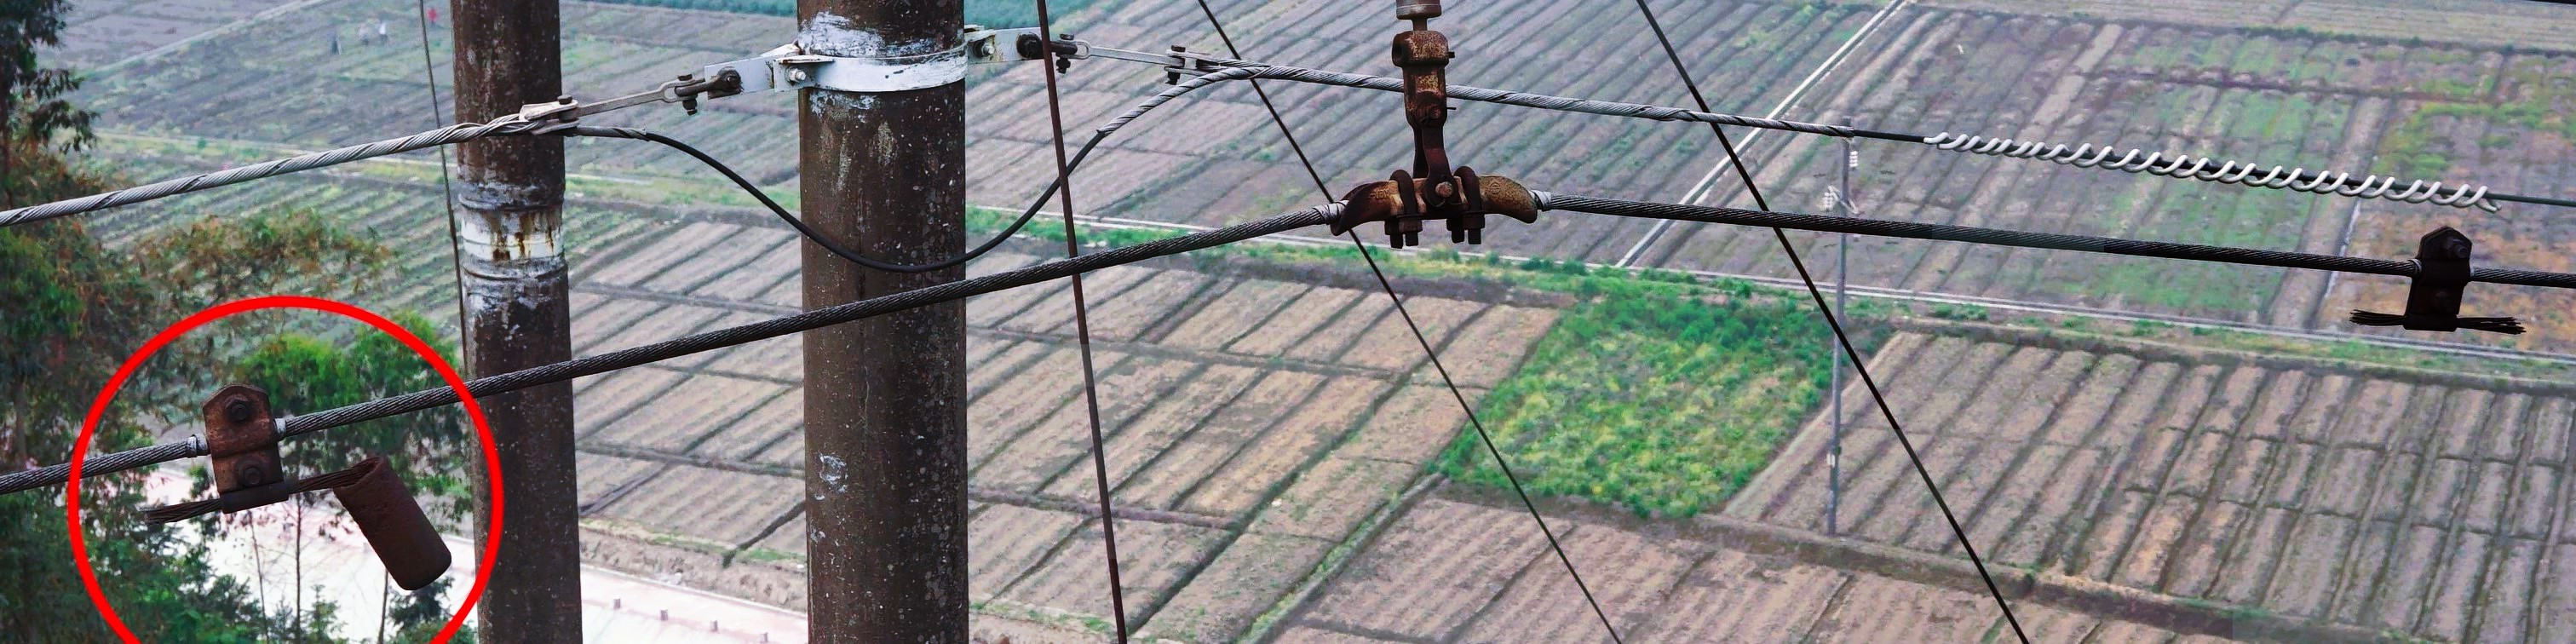Damage of shockproof hammer: (133, 355, 460, 613), (2338, 207, 2545, 373)
